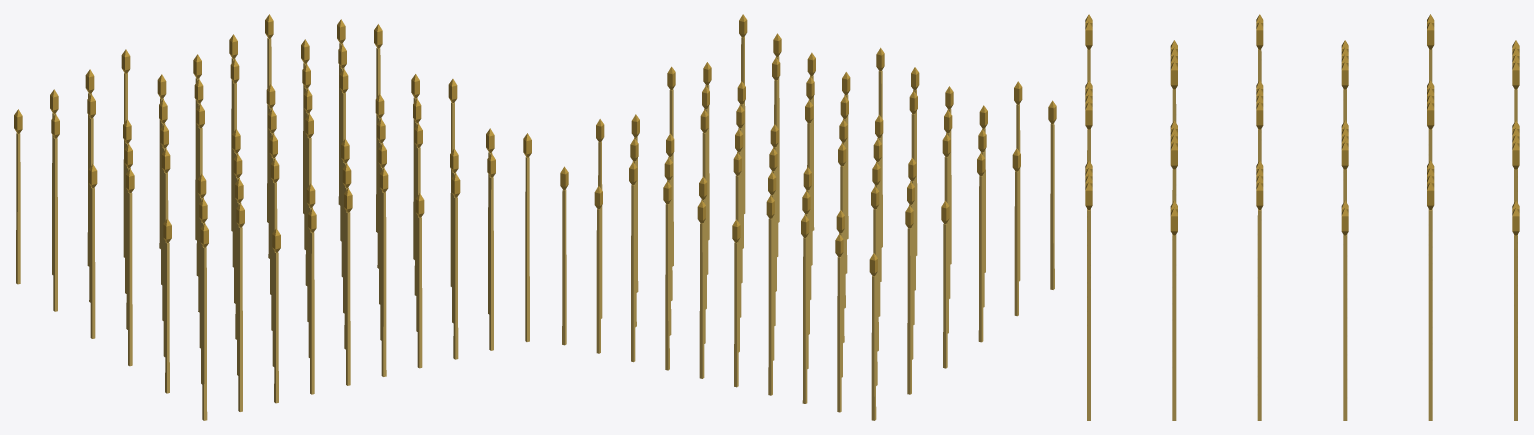
File: wheat_patch.glb
The picture shows the model from 3 angles, left to right: view 1: azimuth 30°, elevation 25°; view 2: azimuth 150°, elevation 25°; view 3: azimuth 270°, elevation 25°; orthographic projection. The views are drawn at different scales.
Visible parts, largest first — view 1: wheat_patch; view 2: wheat_patch; view 3: wheat_patch.
Boxes of the visible parts, x1,y1,x2,y2 form: wheat_patch: (14, 14, 531, 420); wheat_patch: (560, 14, 1056, 420); wheat_patch: (1085, 14, 1519, 420).
Size of the model in its own units: 1.83 by 1.11 by 1.83.
